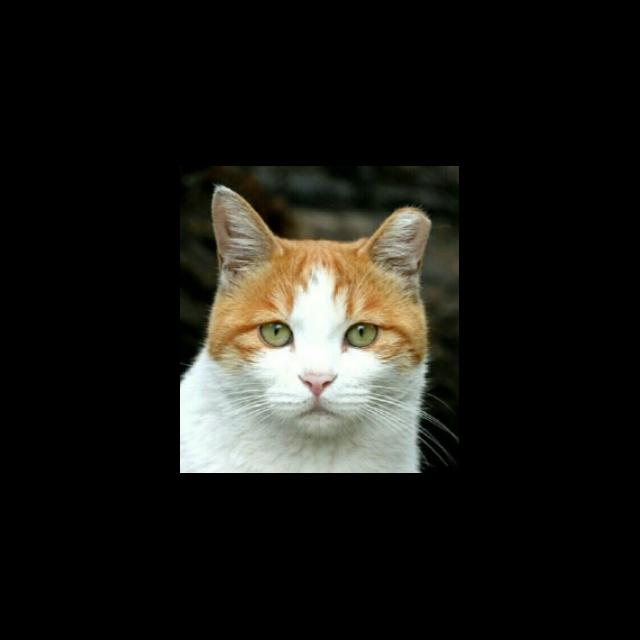animals: (198, 179, 431, 446)
